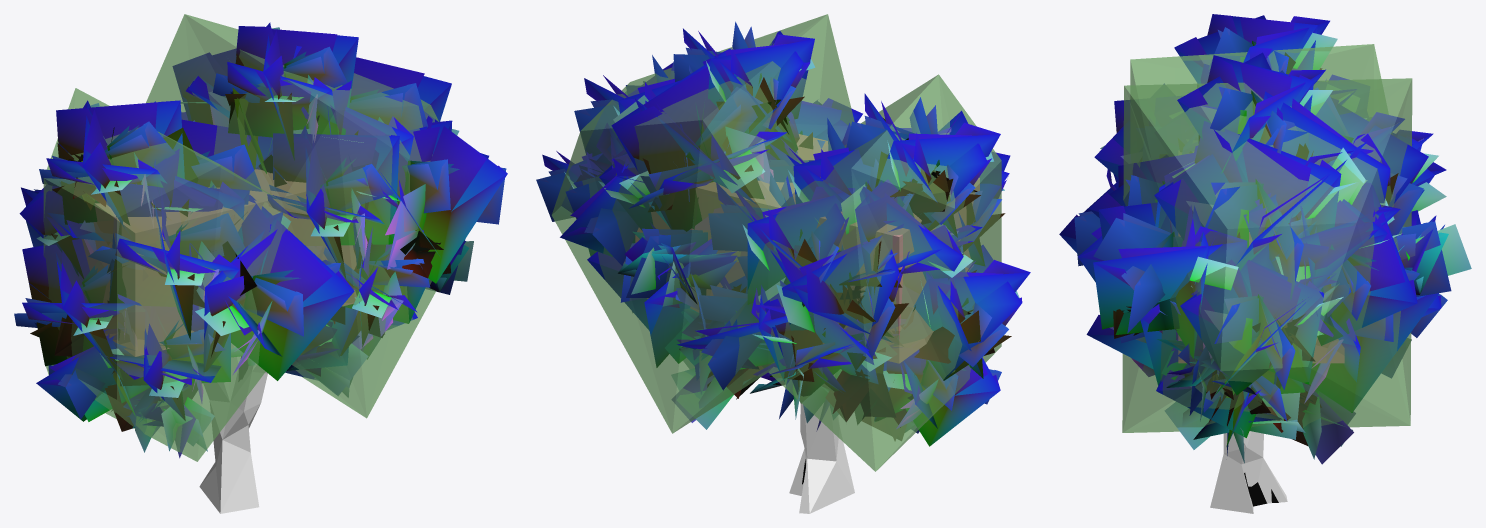
Rendered from olive.dae.
3 renders of one model, left to right at view 1: azimuth 30°, elevation 25°; view 2: azimuth 150°, elevation 25°; view 3: azimuth 270°, elevation 25°, orthographic. The views are drawn at different scales.
Parts seen in each view (by area): view 1: olive_a1300, Colmesh-1, olive_a200, olive_a400; view 2: Colmesh-1, olive_a1300, olive_a200, olive_a400; view 3: Colmesh-1, olive_a1300, olive_a200, olive_a400.
Boxes of the visible parts, x1,y1,x2,y2 form: olive_a1300: (15, 23, 507, 458); Colmesh-1: (43, 14, 438, 513); olive_a200: (20, 22, 507, 434); olive_a400: (14, 47, 505, 431); Colmesh-1: (551, 14, 1001, 513); olive_a1300: (536, 22, 1029, 484); olive_a200: (543, 28, 1030, 431); olive_a400: (536, 21, 1008, 472); Colmesh-1: (1122, 44, 1412, 513); olive_a1300: (1059, 14, 1471, 502); olive_a200: (1059, 15, 1448, 506); olive_a400: (1074, 27, 1446, 496).
Size of the model in its own units: 4.76 by 3.45 by 4.28.
